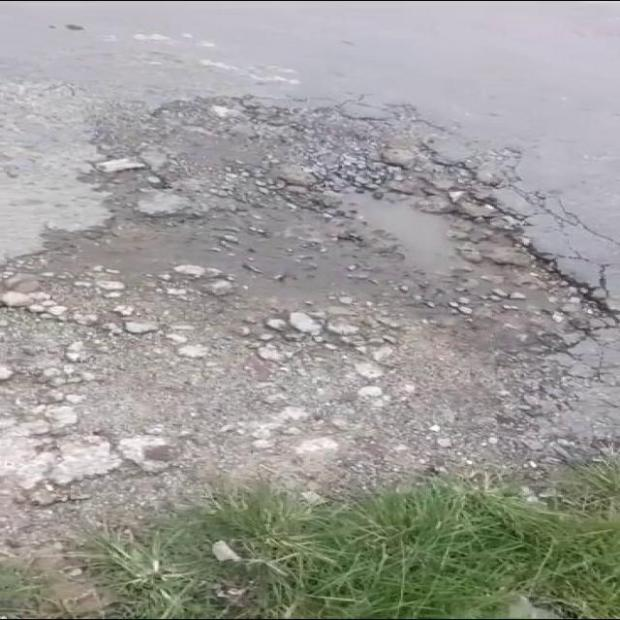lubang: (0, 100, 619, 527)
